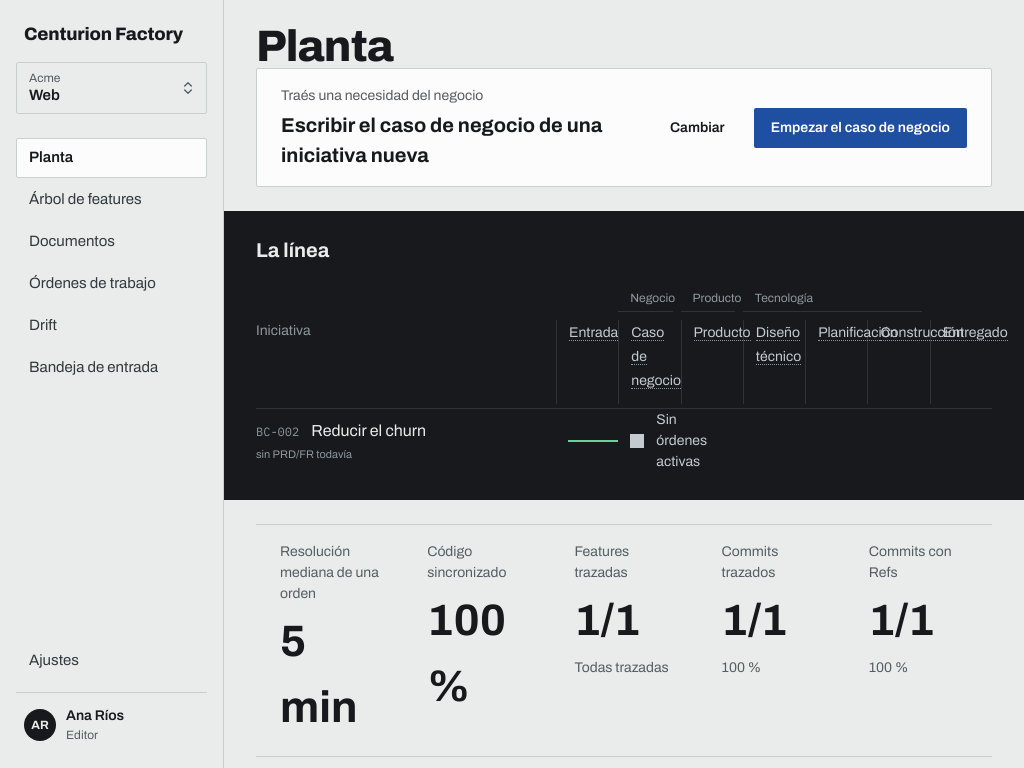
it: ProfileBand — the three paths (WO-547, SDD-051) › negocio: a stored profile shows its next step at once and leads to its own path
The width and height of the screenshot is (1024, 768).
expect the text "Escribir el caso de negocio de una iniciativa nueva" is shown: met, box [281, 110, 633, 170]
Click the link "Empezar el caso de negocio" at (860, 128), box [754, 108, 967, 148]
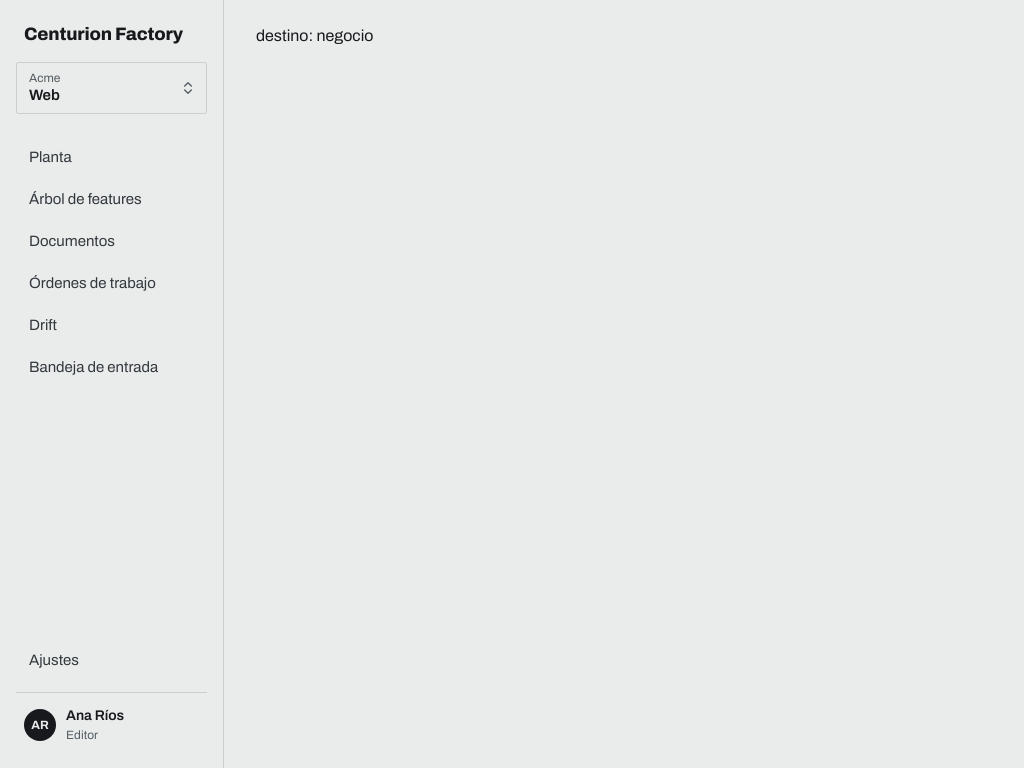
expect the text "destino: negocio" is shown: met, box [256, 27, 373, 44]
